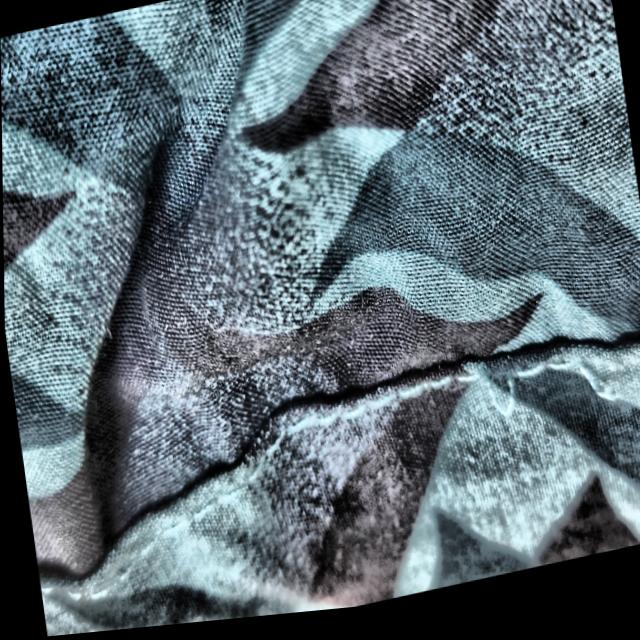Stitch: (438, 325, 638, 484)
